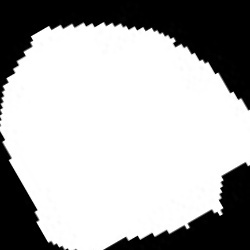spot: (1, 24, 248, 248)
